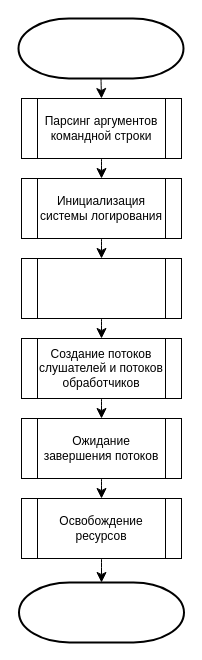
Some shapes in this 202 by 660 pixel diagram are drawn without their labels. The shapes that lost their labels are listed below. From the top down, each one's box as (x1, y1, x2, y2) in pixels, then its label:
(17, 17, 184, 79): Начало
(20, 258, 182, 318): Инициализация обработчика сигналов
(18, 581, 184, 643): Конец
